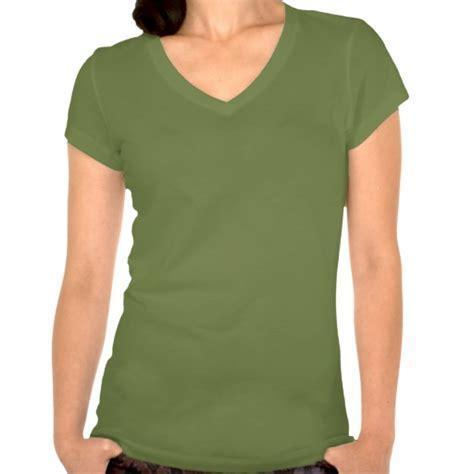Tshirt: (65, 5, 408, 473)
